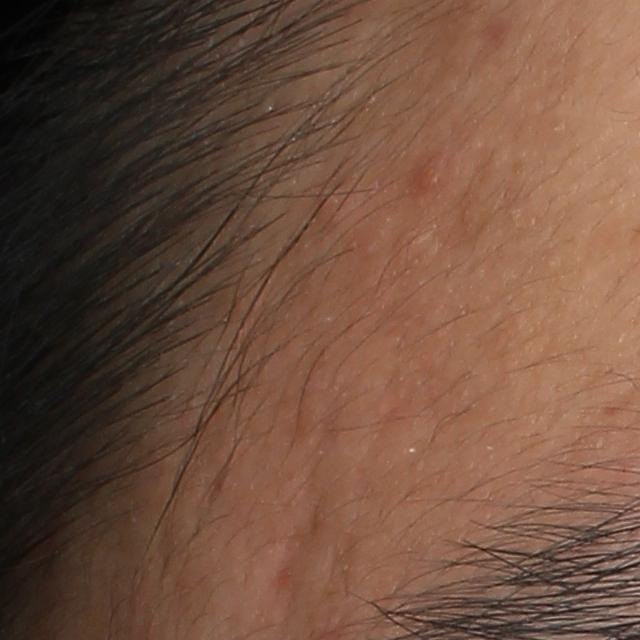papule: (413, 155, 449, 190)
